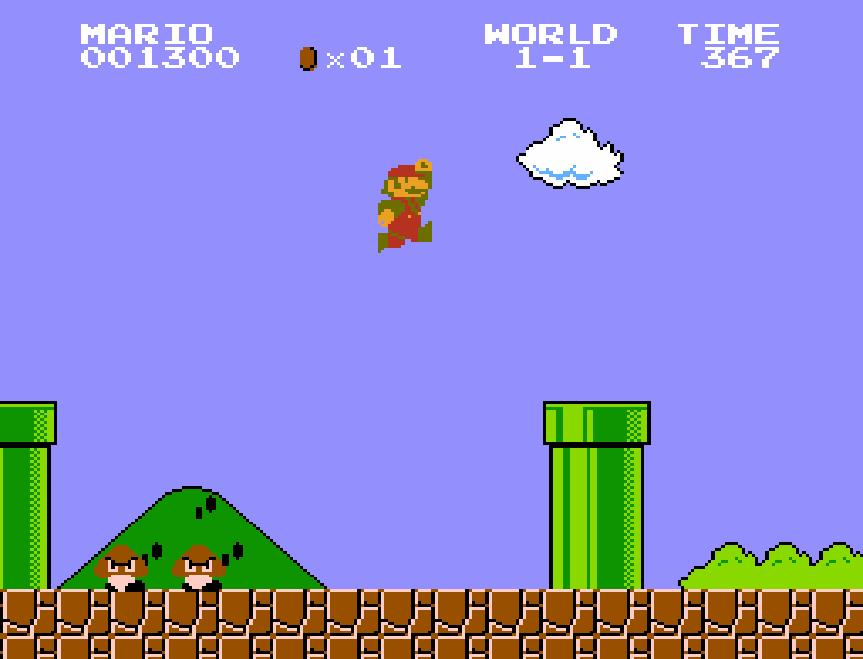big_mario: (376, 156, 434, 254)
